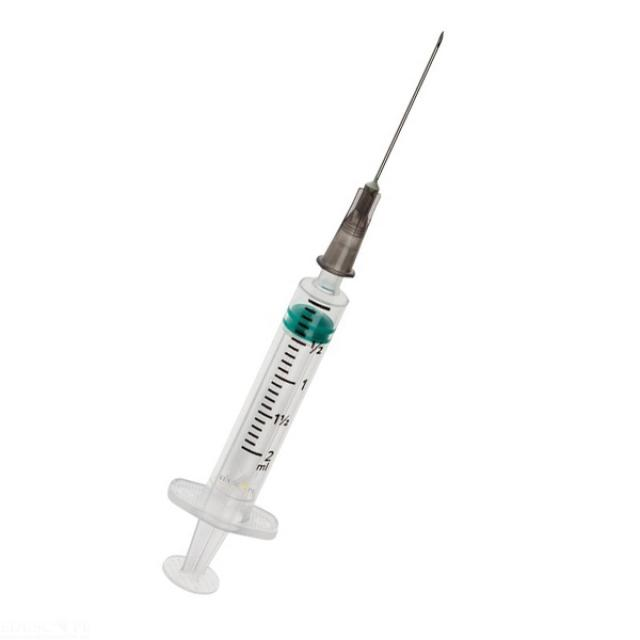syringe: (160, 29, 445, 595)
